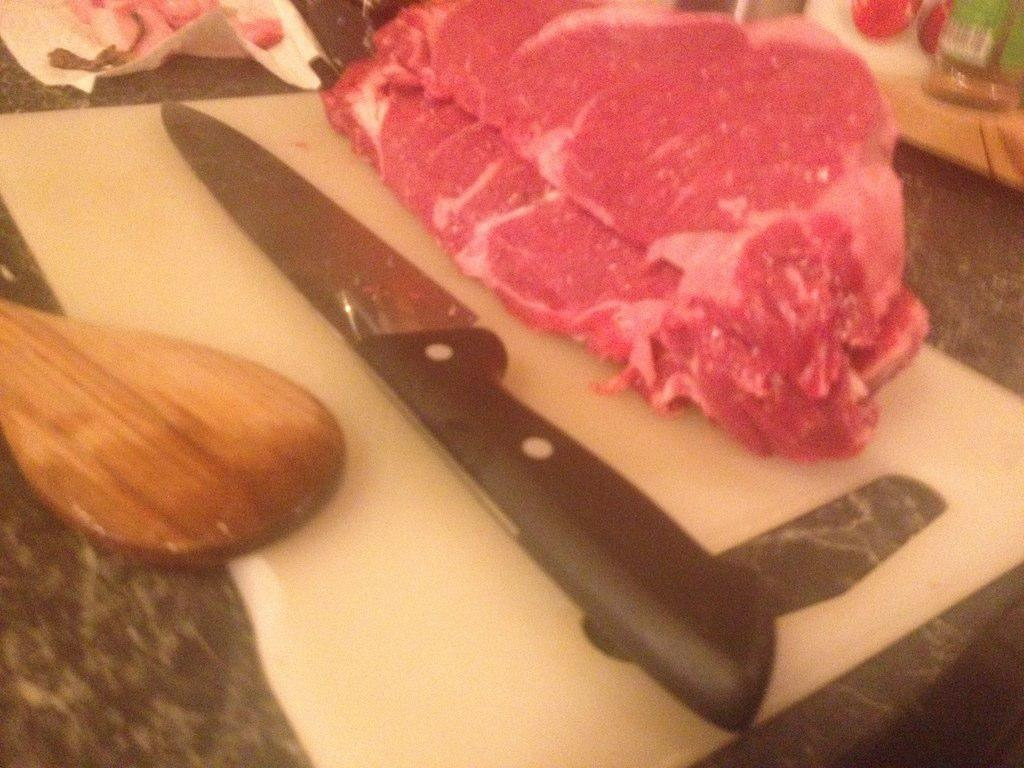kitchen knife: (161, 99, 780, 742)
